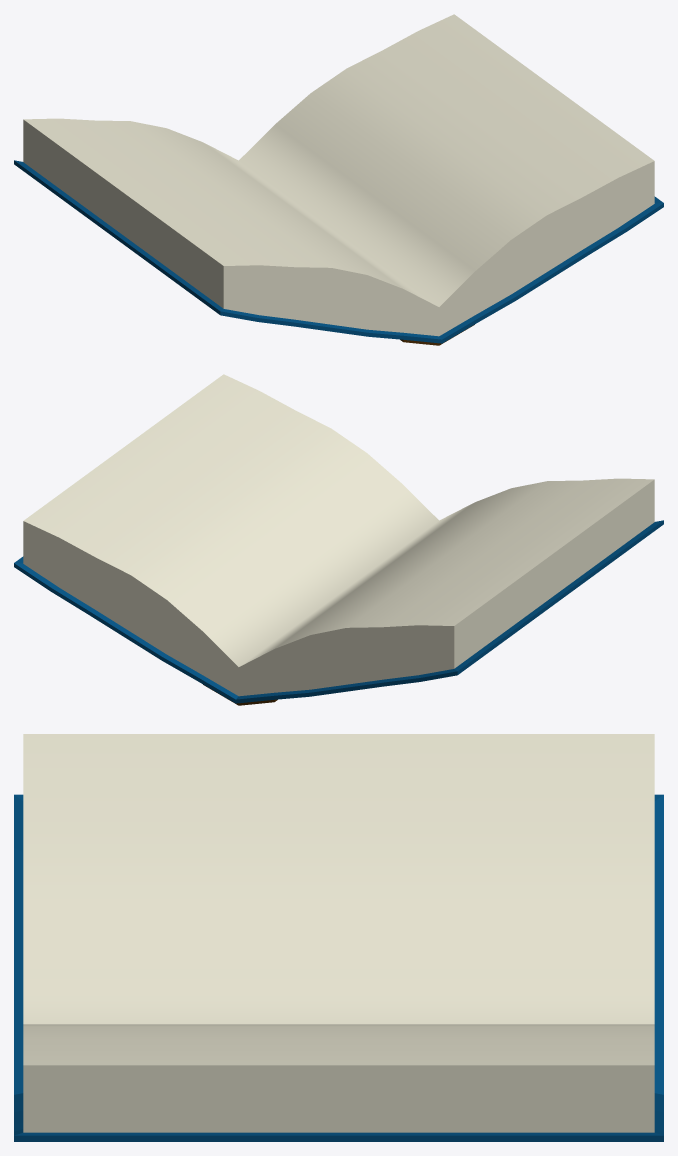
File: openbook.fbx
The picture shows the model from 3 angles, top to bottom: view 1: azimuth 30°, elevation 25°; view 2: azimuth 150°, elevation 25°; view 3: azimuth 270°, elevation 25°; orthographic projection. The views are drawn at different scales.
Parts seen in each view (by area): view 1: openbook; view 2: openbook; view 3: openbook.
Part boxes in pixels (x1,y1,x2,y2): openbook: [14, 14, 663, 345]; openbook: [14, 374, 663, 705]; openbook: [14, 734, 663, 1141].
Size of the model in its own units: 4.55 by 1.3 by 3.66.
